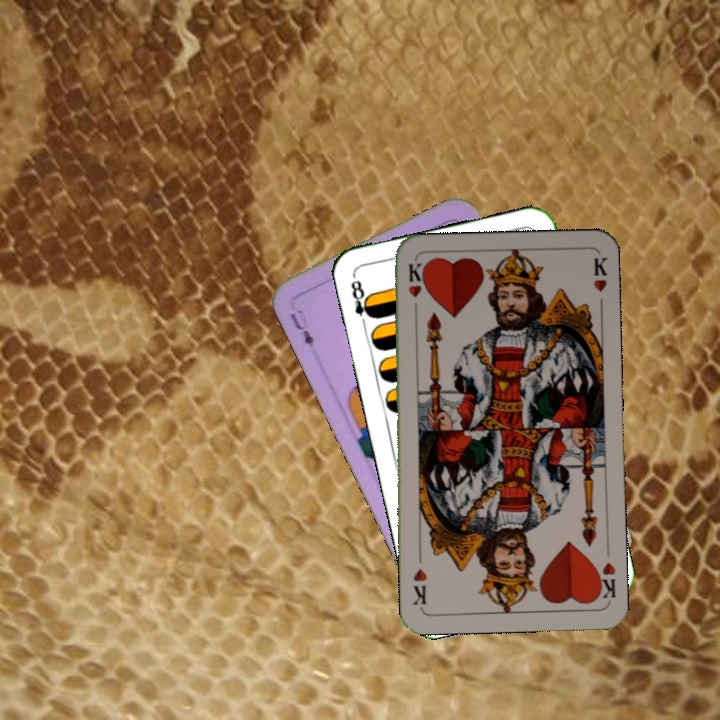E8: (346, 276, 377, 330)
EU: (285, 309, 317, 350)
HK: (404, 259, 425, 318), (591, 558, 618, 602)
